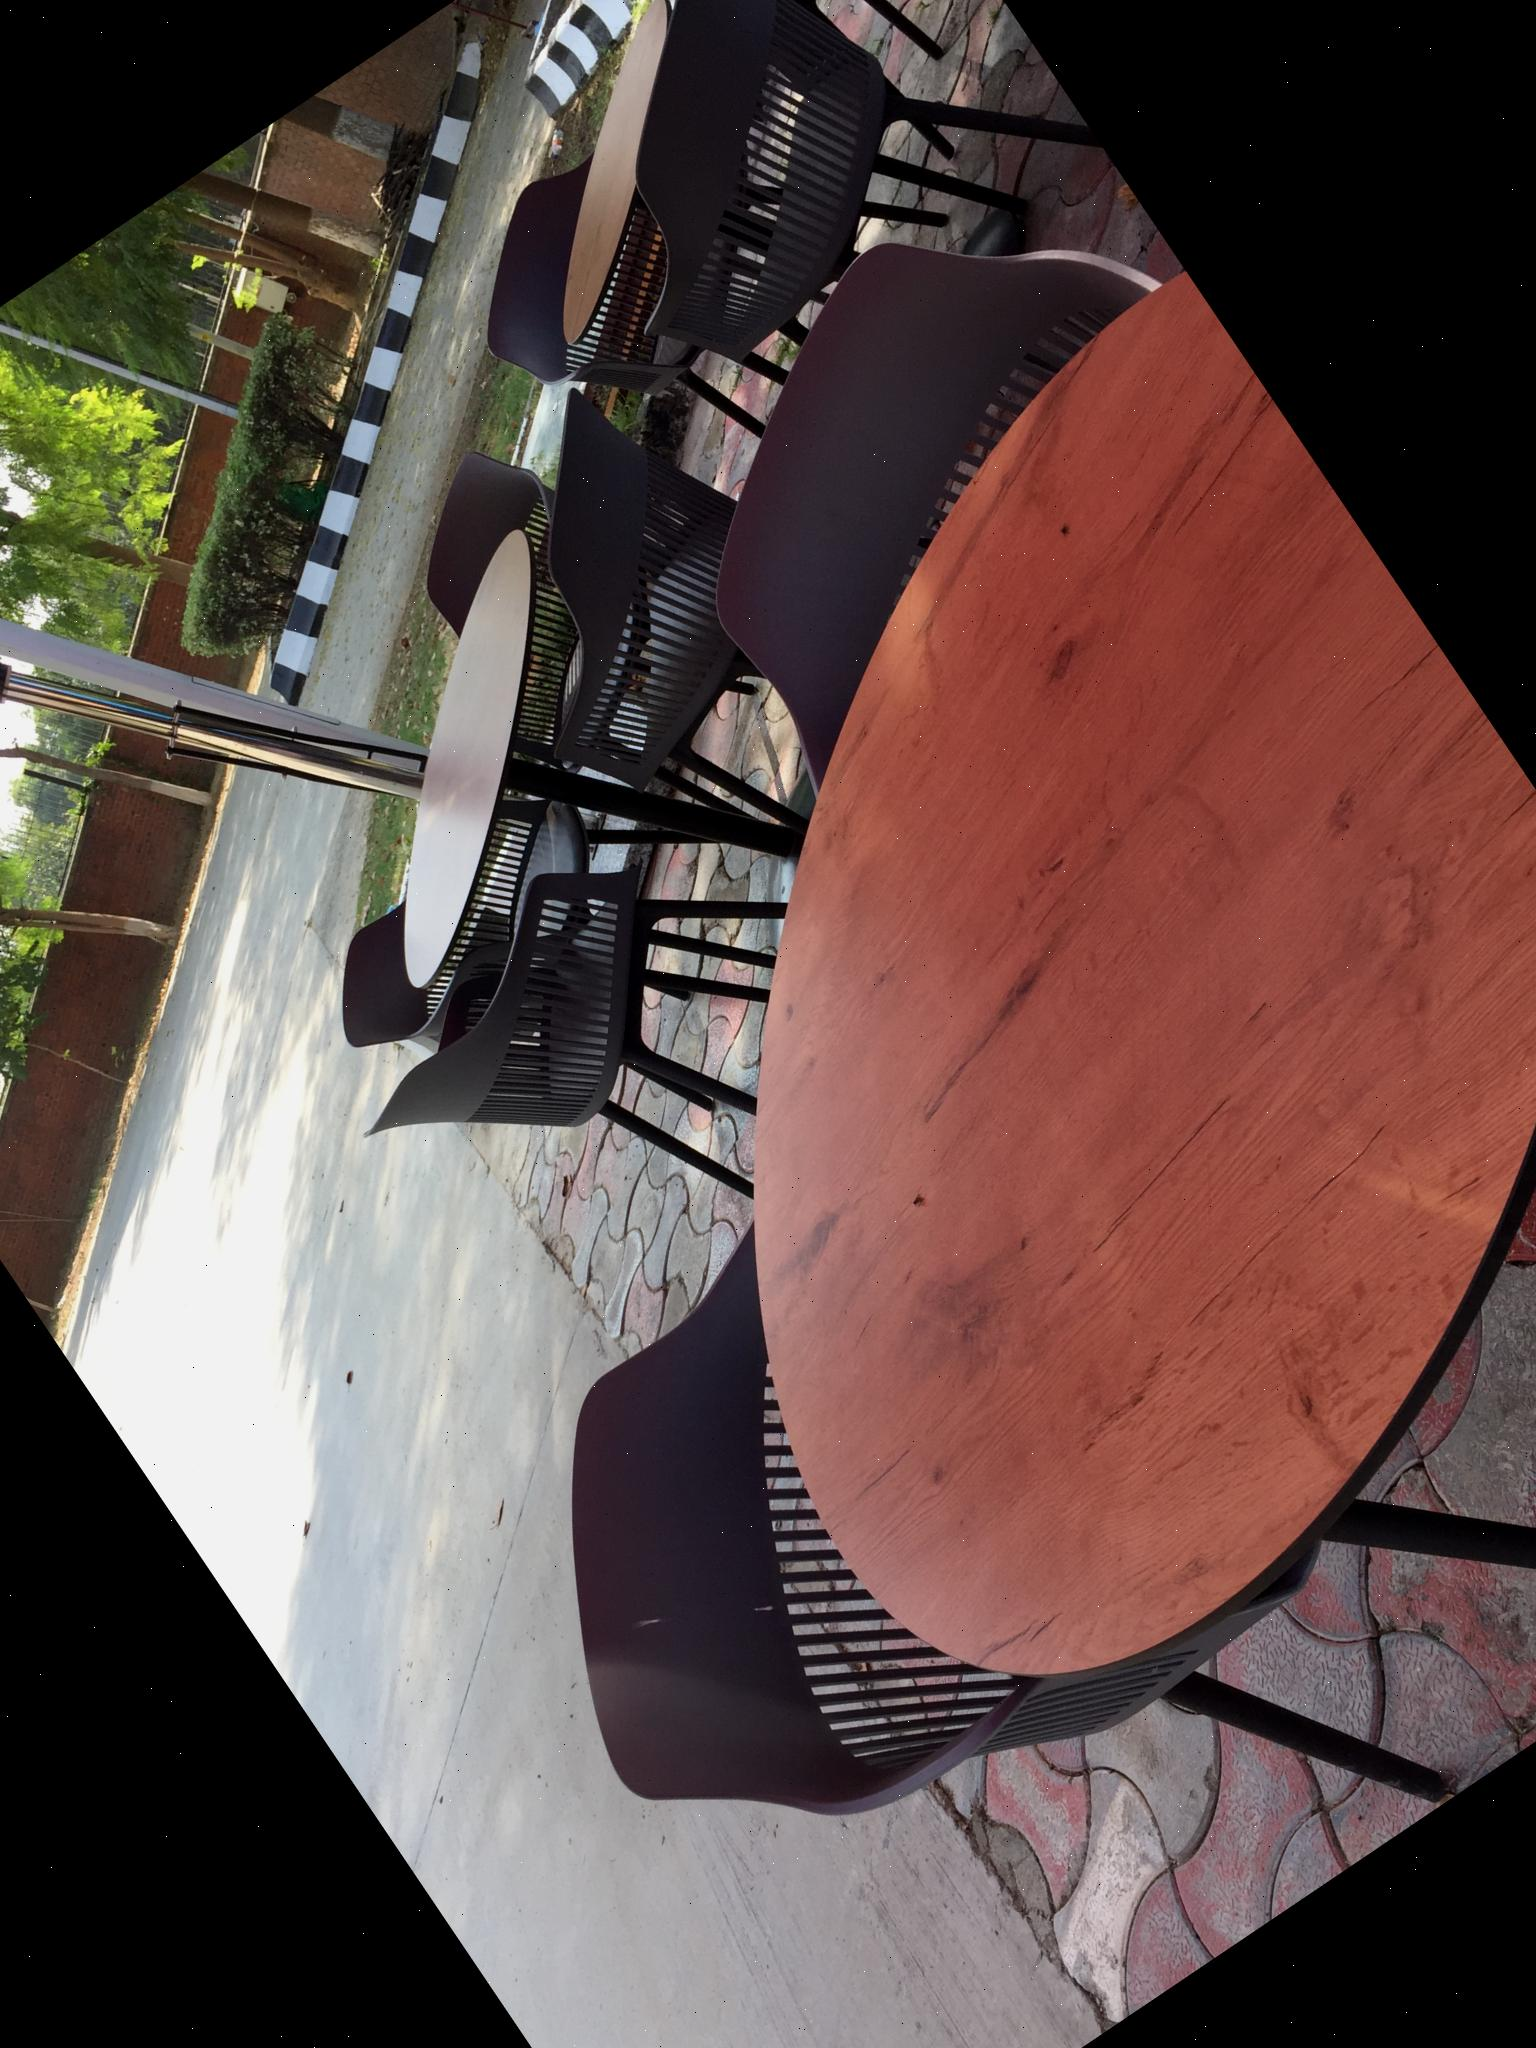chair: (402, 1055, 1483, 2048), (582, 124, 1291, 792), (342, 345, 921, 966), (295, 772, 900, 1356), (342, 822, 939, 1356), (481, 0, 1139, 477), (390, 66, 904, 553), (1320, 880, 1536, 1627), (295, 769, 657, 1072), (523, 0, 999, 202)
